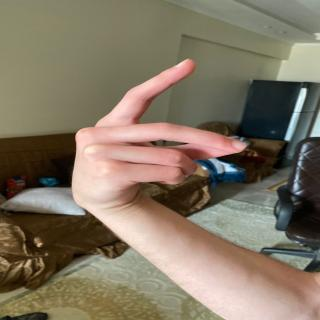TAA: (57, 43, 267, 219)
